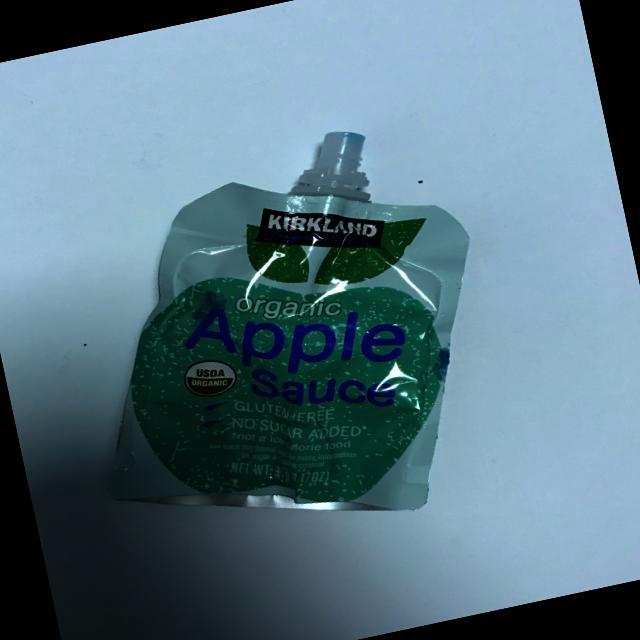plastic: (22, 91, 548, 578)
